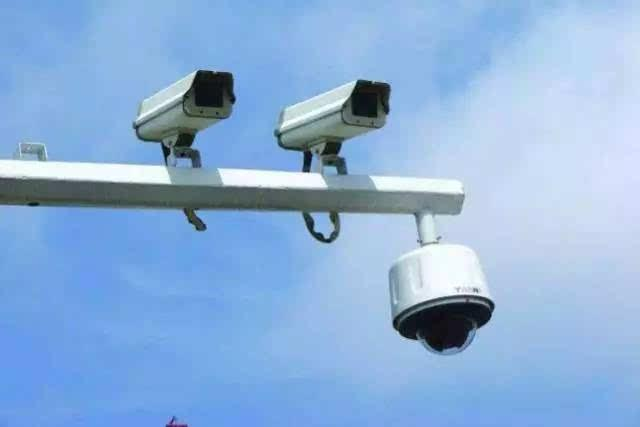camera: (395, 246, 491, 355), (133, 70, 235, 164), (279, 83, 393, 166)
